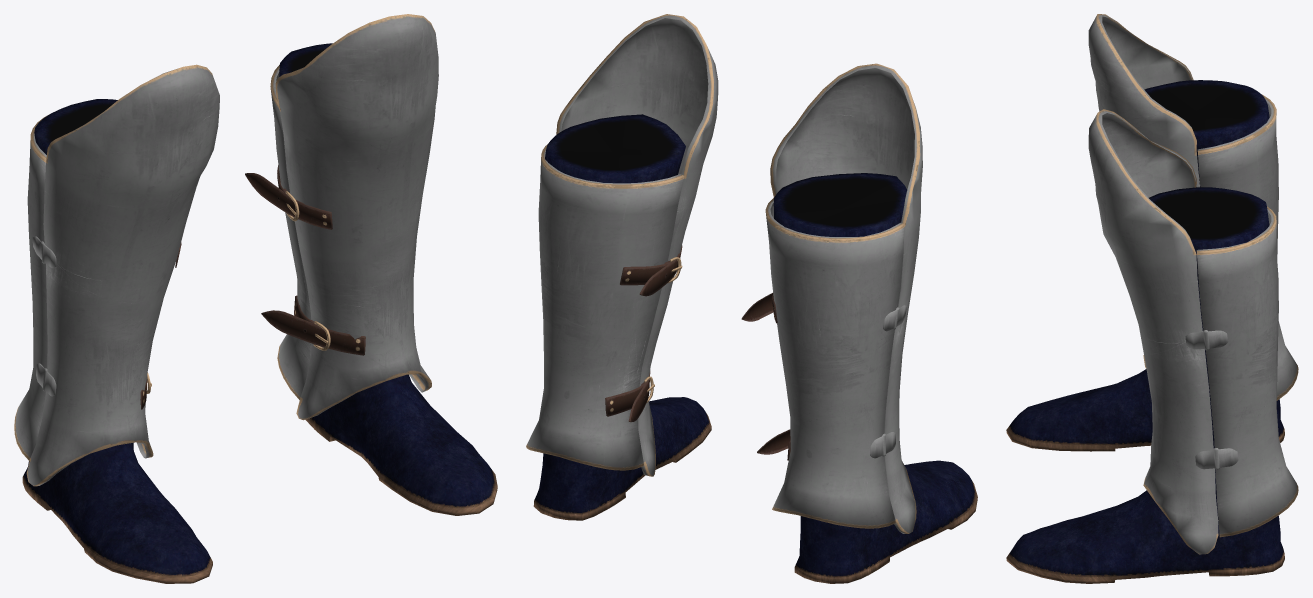
File: swan_knight_greaves_b_full.fbx
3 views of the same model, side by side, from view 1: azimuth 30°, elevation 25°; view 2: azimuth 150°, elevation 25°; view 3: azimuth 270°, elevation 25° (orthographic). The views are drawn at different scales.
Parts seen in each view (by area): view 1: swan_knight_greaves_b_full; view 2: swan_knight_greaves_b_full; view 3: swan_knight_greaves_b_full.
Boxes of the visible parts, x1=… form: swan_knight_greaves_b_full: x1=14, y1=14, x2=497, y2=583; swan_knight_greaves_b_full: x1=526, y1=14, x2=977, y2=583; swan_knight_greaves_b_full: x1=1006, y1=14, x2=1298, y2=583.
Bounding box in the file's own units: 0.4728 × 0.3303 × 0.5374.
1 material, 1 textured.
